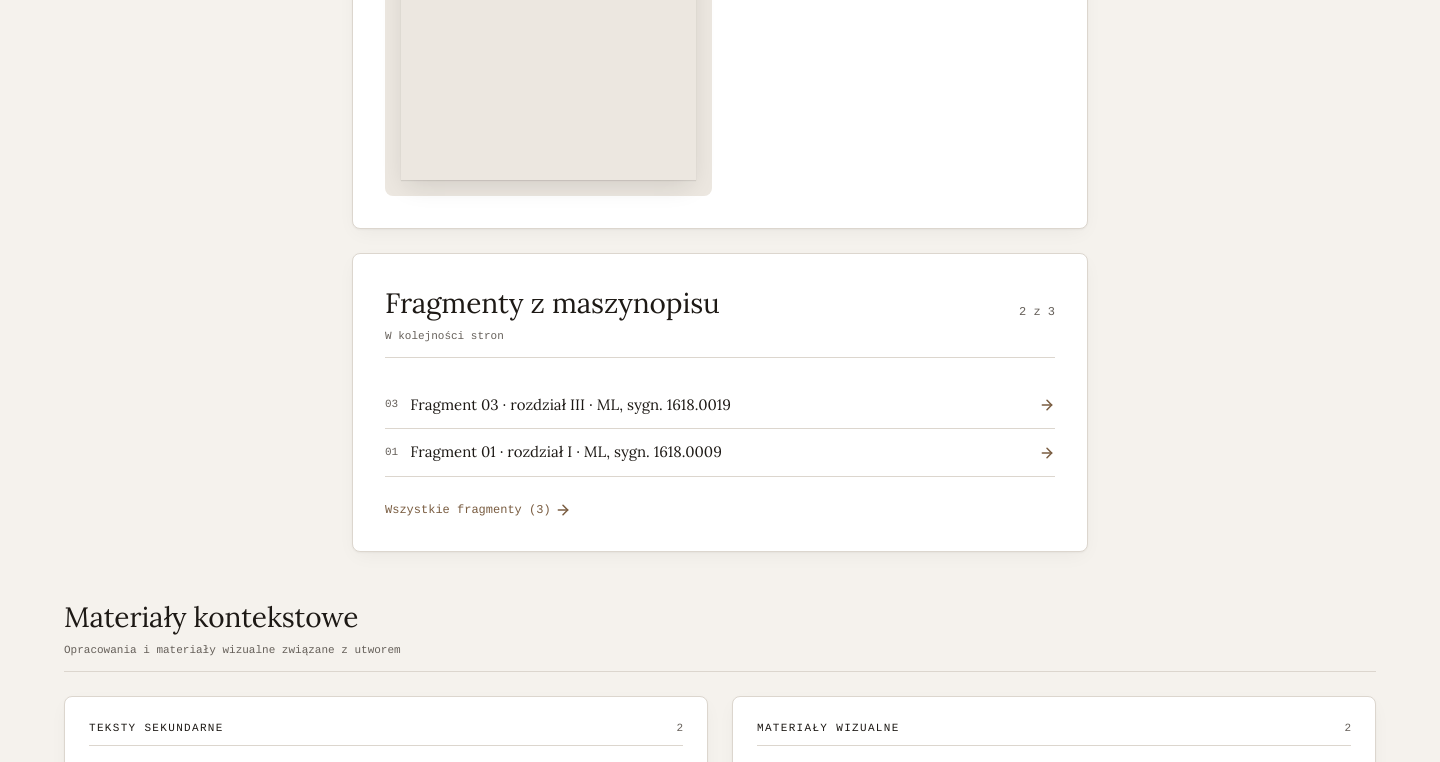
Scenario: TypescriptPage › US-RA-08 AC3: a fragment in the list opens it in the reader
The width and height of the screenshot is (1440, 762).
(page scrolled)
What coordinates should you click on to do the following:
click the link "03 Fragment 03 · rozdział III · ML, sygn. 1618.0019"
I would click on:
 (720, 406)
Its box is [385, 382, 1055, 429].
(page scrolled)
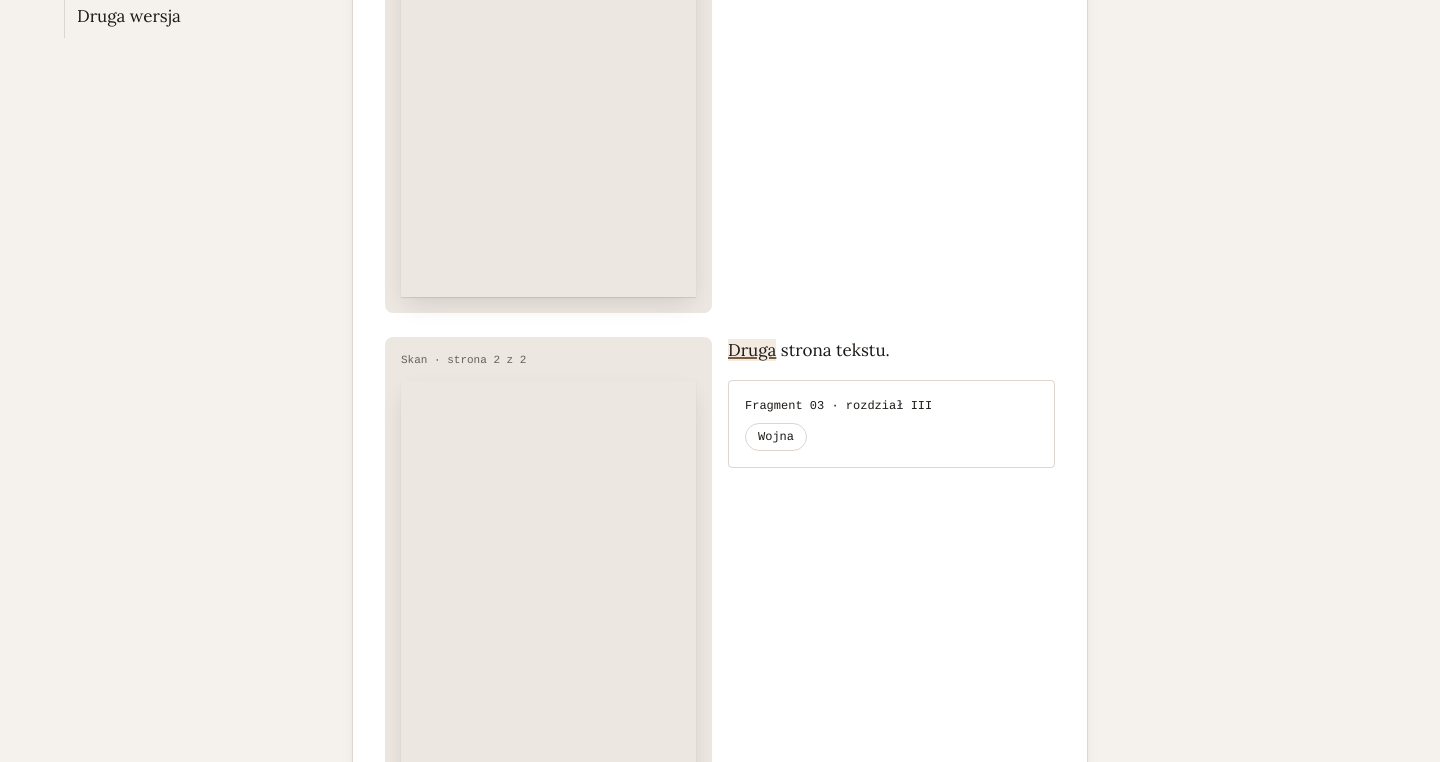
Result: the text "Fragment 03 · rozdział III" is shown at [745, 399, 932, 413]
